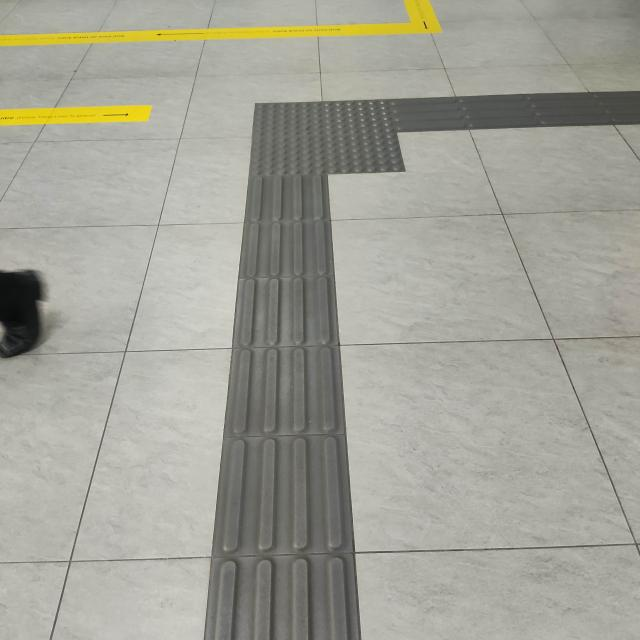kanan: (223, 80, 527, 204)
